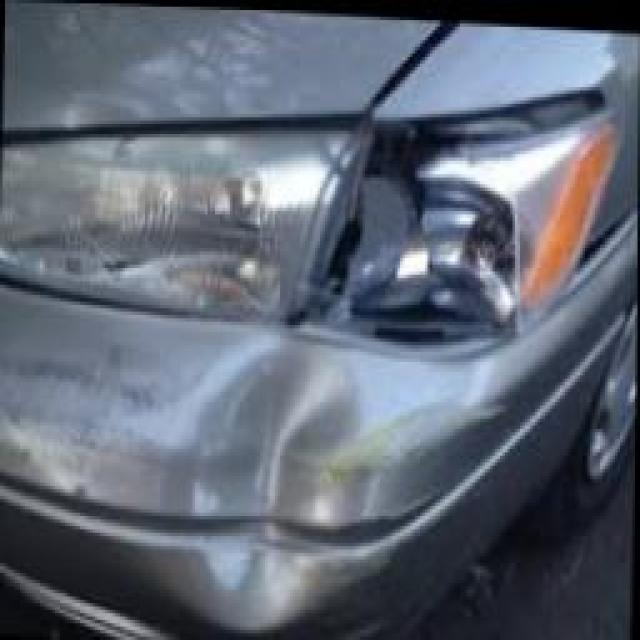Bumper: (172, 336, 429, 614)
Light: (311, 86, 632, 345)
